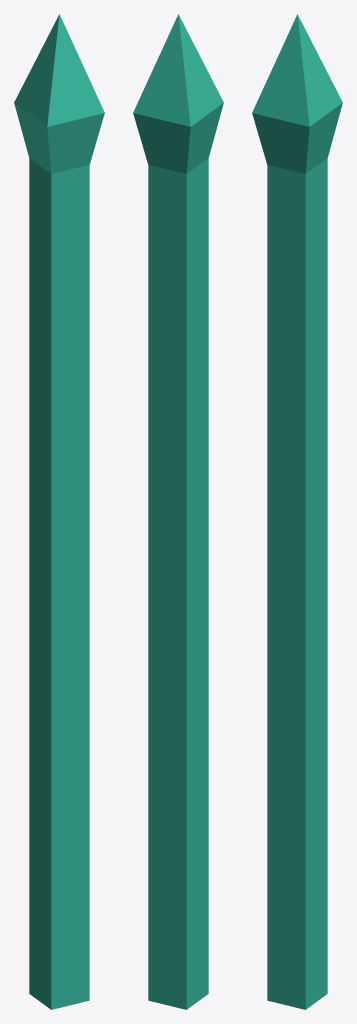
Rendered from ironFenceBar.fbx.
The picture shows the model from 3 angles, left to right: view 1: azimuth 30°, elevation 25°; view 2: azimuth 150°, elevation 25°; view 3: azimuth 330°, elevation 25°; orthographic projection.
Parts seen in each view (by area): view 1: ironFenceBar; view 2: ironFenceBar; view 3: ironFenceBar.
Boxes of the visible parts, x1,y1,x2,y2 form: ironFenceBar: [14, 14, 104, 1009]; ironFenceBar: [133, 14, 223, 1009]; ironFenceBar: [252, 14, 342, 1009].
Size of the model in its own units: 0.45 by 7.34 by 0.45.
